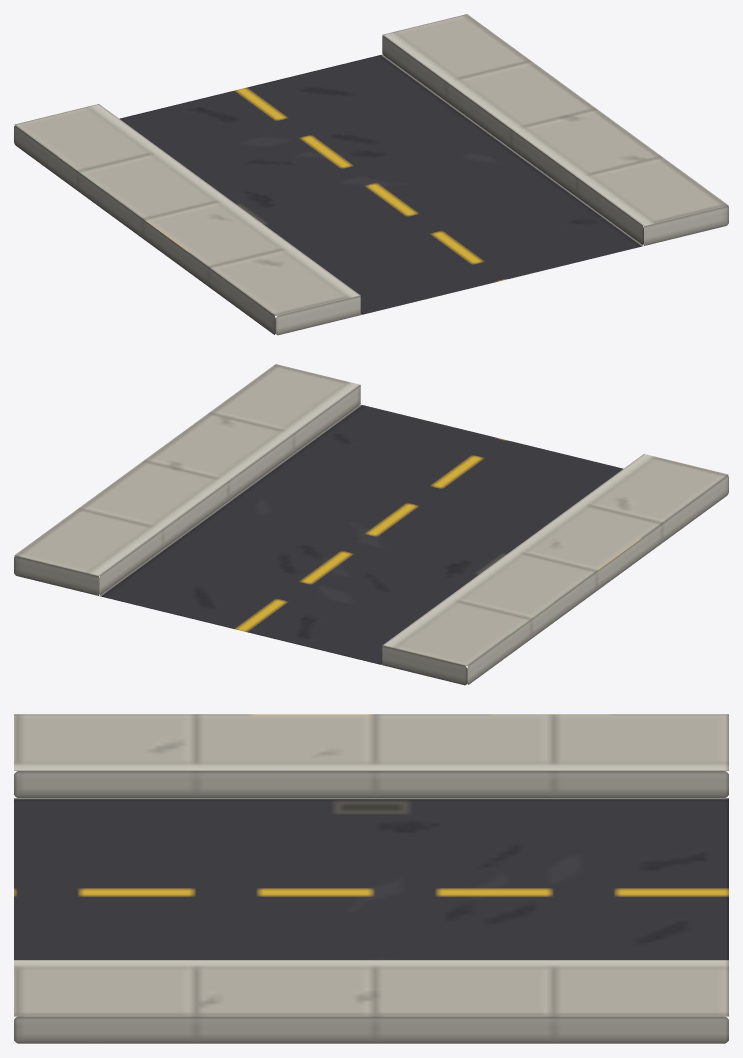
The model's file is Calle_Recta.fbx.
3 renders of one model, top to bottom at view 1: azimuth 30°, elevation 25°; view 2: azimuth 150°, elevation 25°; view 3: azimuth 270°, elevation 25°, orthographic. The views are drawn at different scales.
Visible parts, largest first — view 1: Calle_Recta; view 2: Calle_Recta; view 3: Calle_Recta.
Boxes of the visible parts, bbox=[...] form: Calle_Recta: bbox=[14, 14, 728, 335]; Calle_Recta: bbox=[14, 364, 728, 685]; Calle_Recta: bbox=[14, 714, 728, 1043].
Bounding box in the file's own units: 3 × 0.125 × 3.
1 material, 1 textured.
